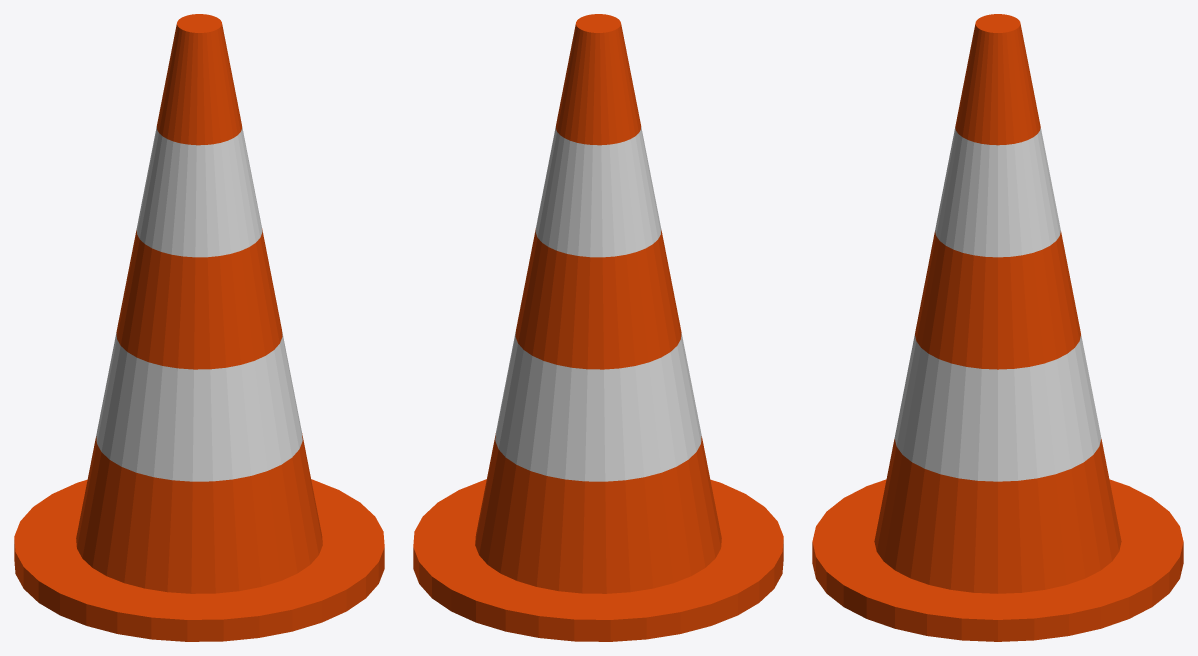
File: vlc.fbx
3 views of the same model, side by side, from view 1: azimuth 30°, elevation 25°; view 2: azimuth 150°, elevation 25°; view 3: azimuth 270°, elevation 25° (orthographic).
Parts seen in each view (by area): view 1: Cylinder; view 2: Cylinder; view 3: Cylinder.
Part boxes in pixels (box(x1,y1,x2,y2)): Cylinder: box(14, 14, 384, 641); Cylinder: box(413, 14, 783, 641); Cylinder: box(812, 14, 1183, 641).
Size of the model in its own units: 176 by 283 by 176.
